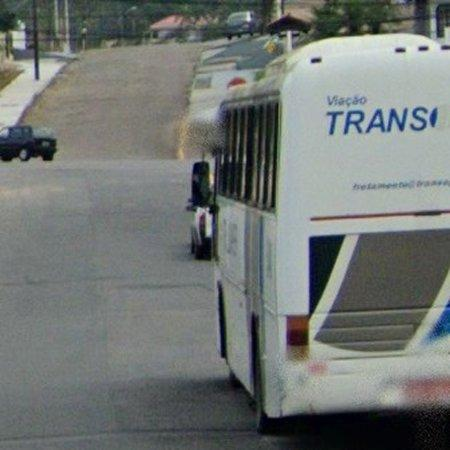buses: (214, 34, 450, 428)
